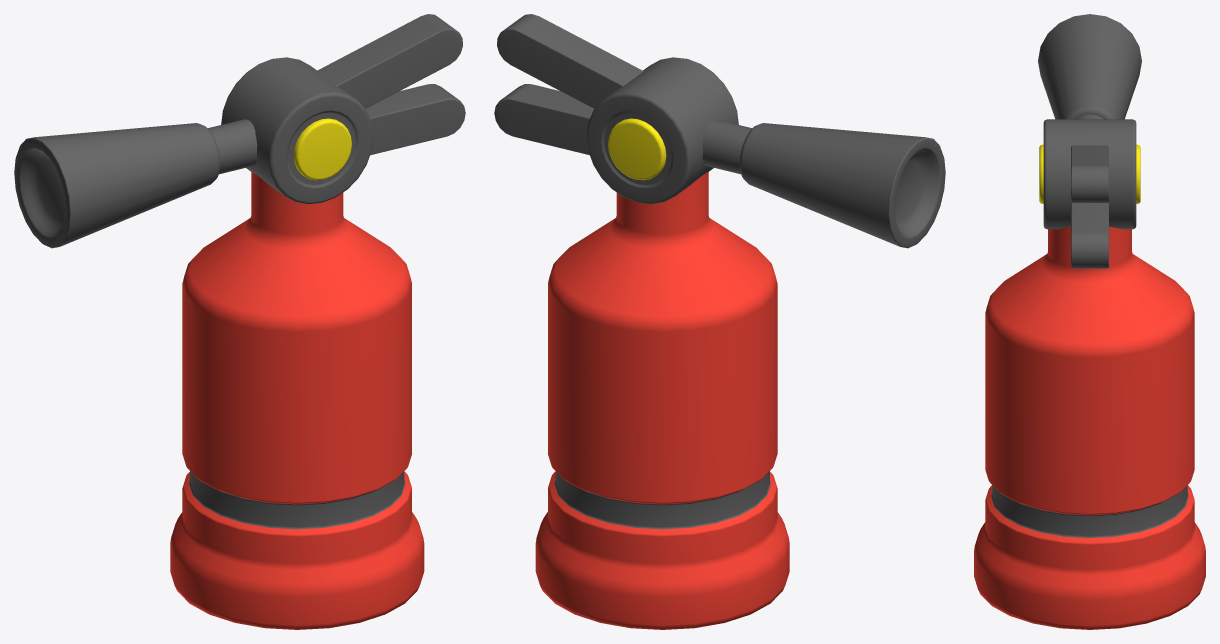
The model's file is Public_11_Fire_Extinguisher_2.glb.
The picture shows the model from 3 angles, left to right: view 1: azimuth 30°, elevation 25°; view 2: azimuth 150°, elevation 25°; view 3: azimuth 270°, elevation 25°; orthographic projection. The views are drawn at different scales.
Parts seen in each view (by area): view 1: Public_11_Fire_Extinguisher_2; view 2: Public_11_Fire_Extinguisher_2; view 3: Public_11_Fire_Extinguisher_2.
Part boxes in pixels (left/top/right/bottom): Public_11_Fire_Extinguisher_2: left=14, top=14, right=465, bottom=629; Public_11_Fire_Extinguisher_2: left=494, top=14, right=945, bottom=629; Public_11_Fire_Extinguisher_2: left=974, top=14, right=1205, bottom=629.
Bounding box in the file's own units: 1.54 × 1.87 × 0.8212.
Materials: 1 (1 with a texture image).
